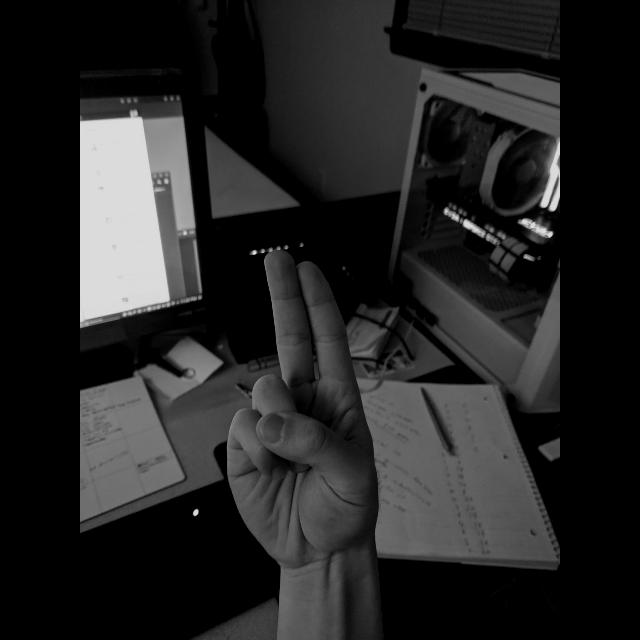U: (222, 248, 382, 570)
